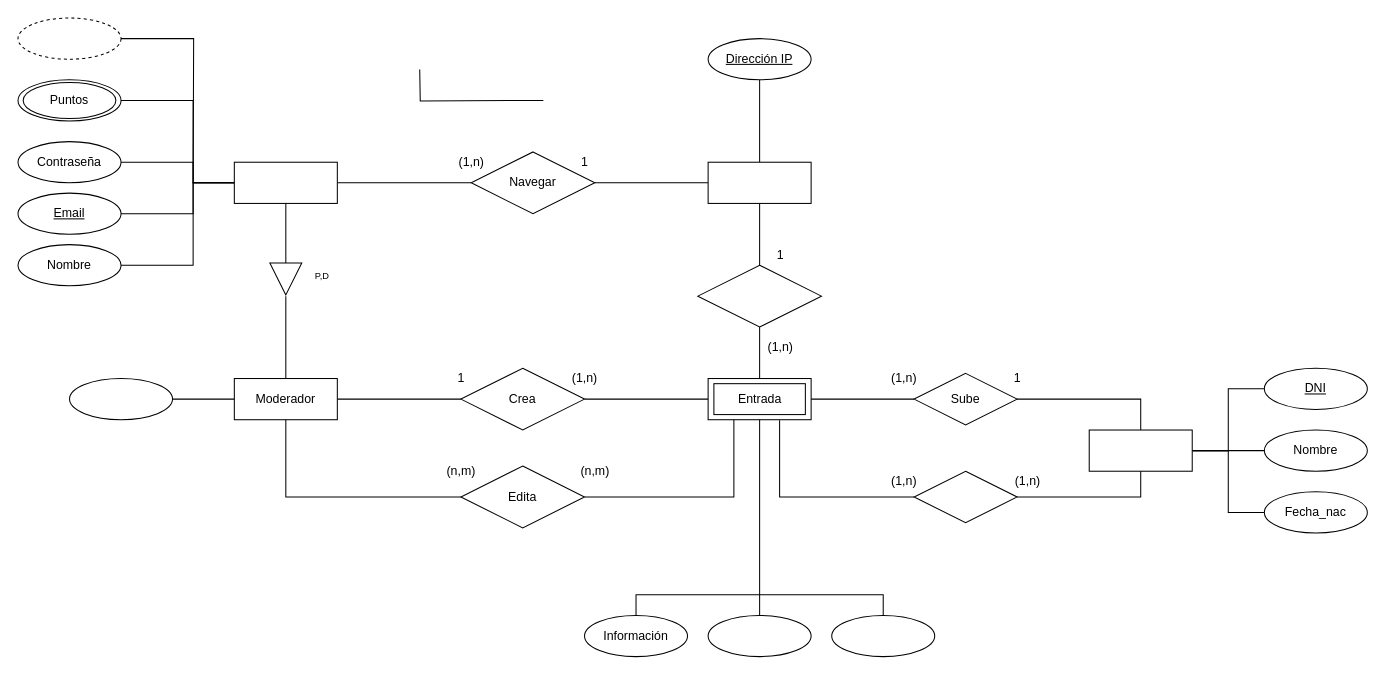
The diagram is 1385 pixels wide and 675 high, and some of its shapes have lost their labels. Each missing label, with the centre of its shape:
"Administrador" goes at (1140,450).
"compuesto" goes at (759,295).
"Código Página" goes at (883,635).
"Especialización" goes at (120,398).
"Nombre Editor" goes at (759,635).
"Portal Web" goes at (759,182).
"Rango" goes at (69,38).
"Revisa" goes at (965,496).
"Usuario" goes at (285,182).
